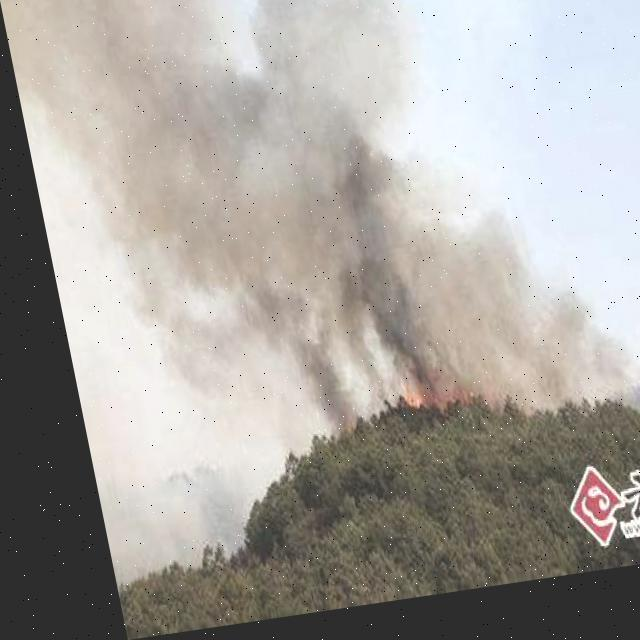Fire: (376, 366, 463, 425)
